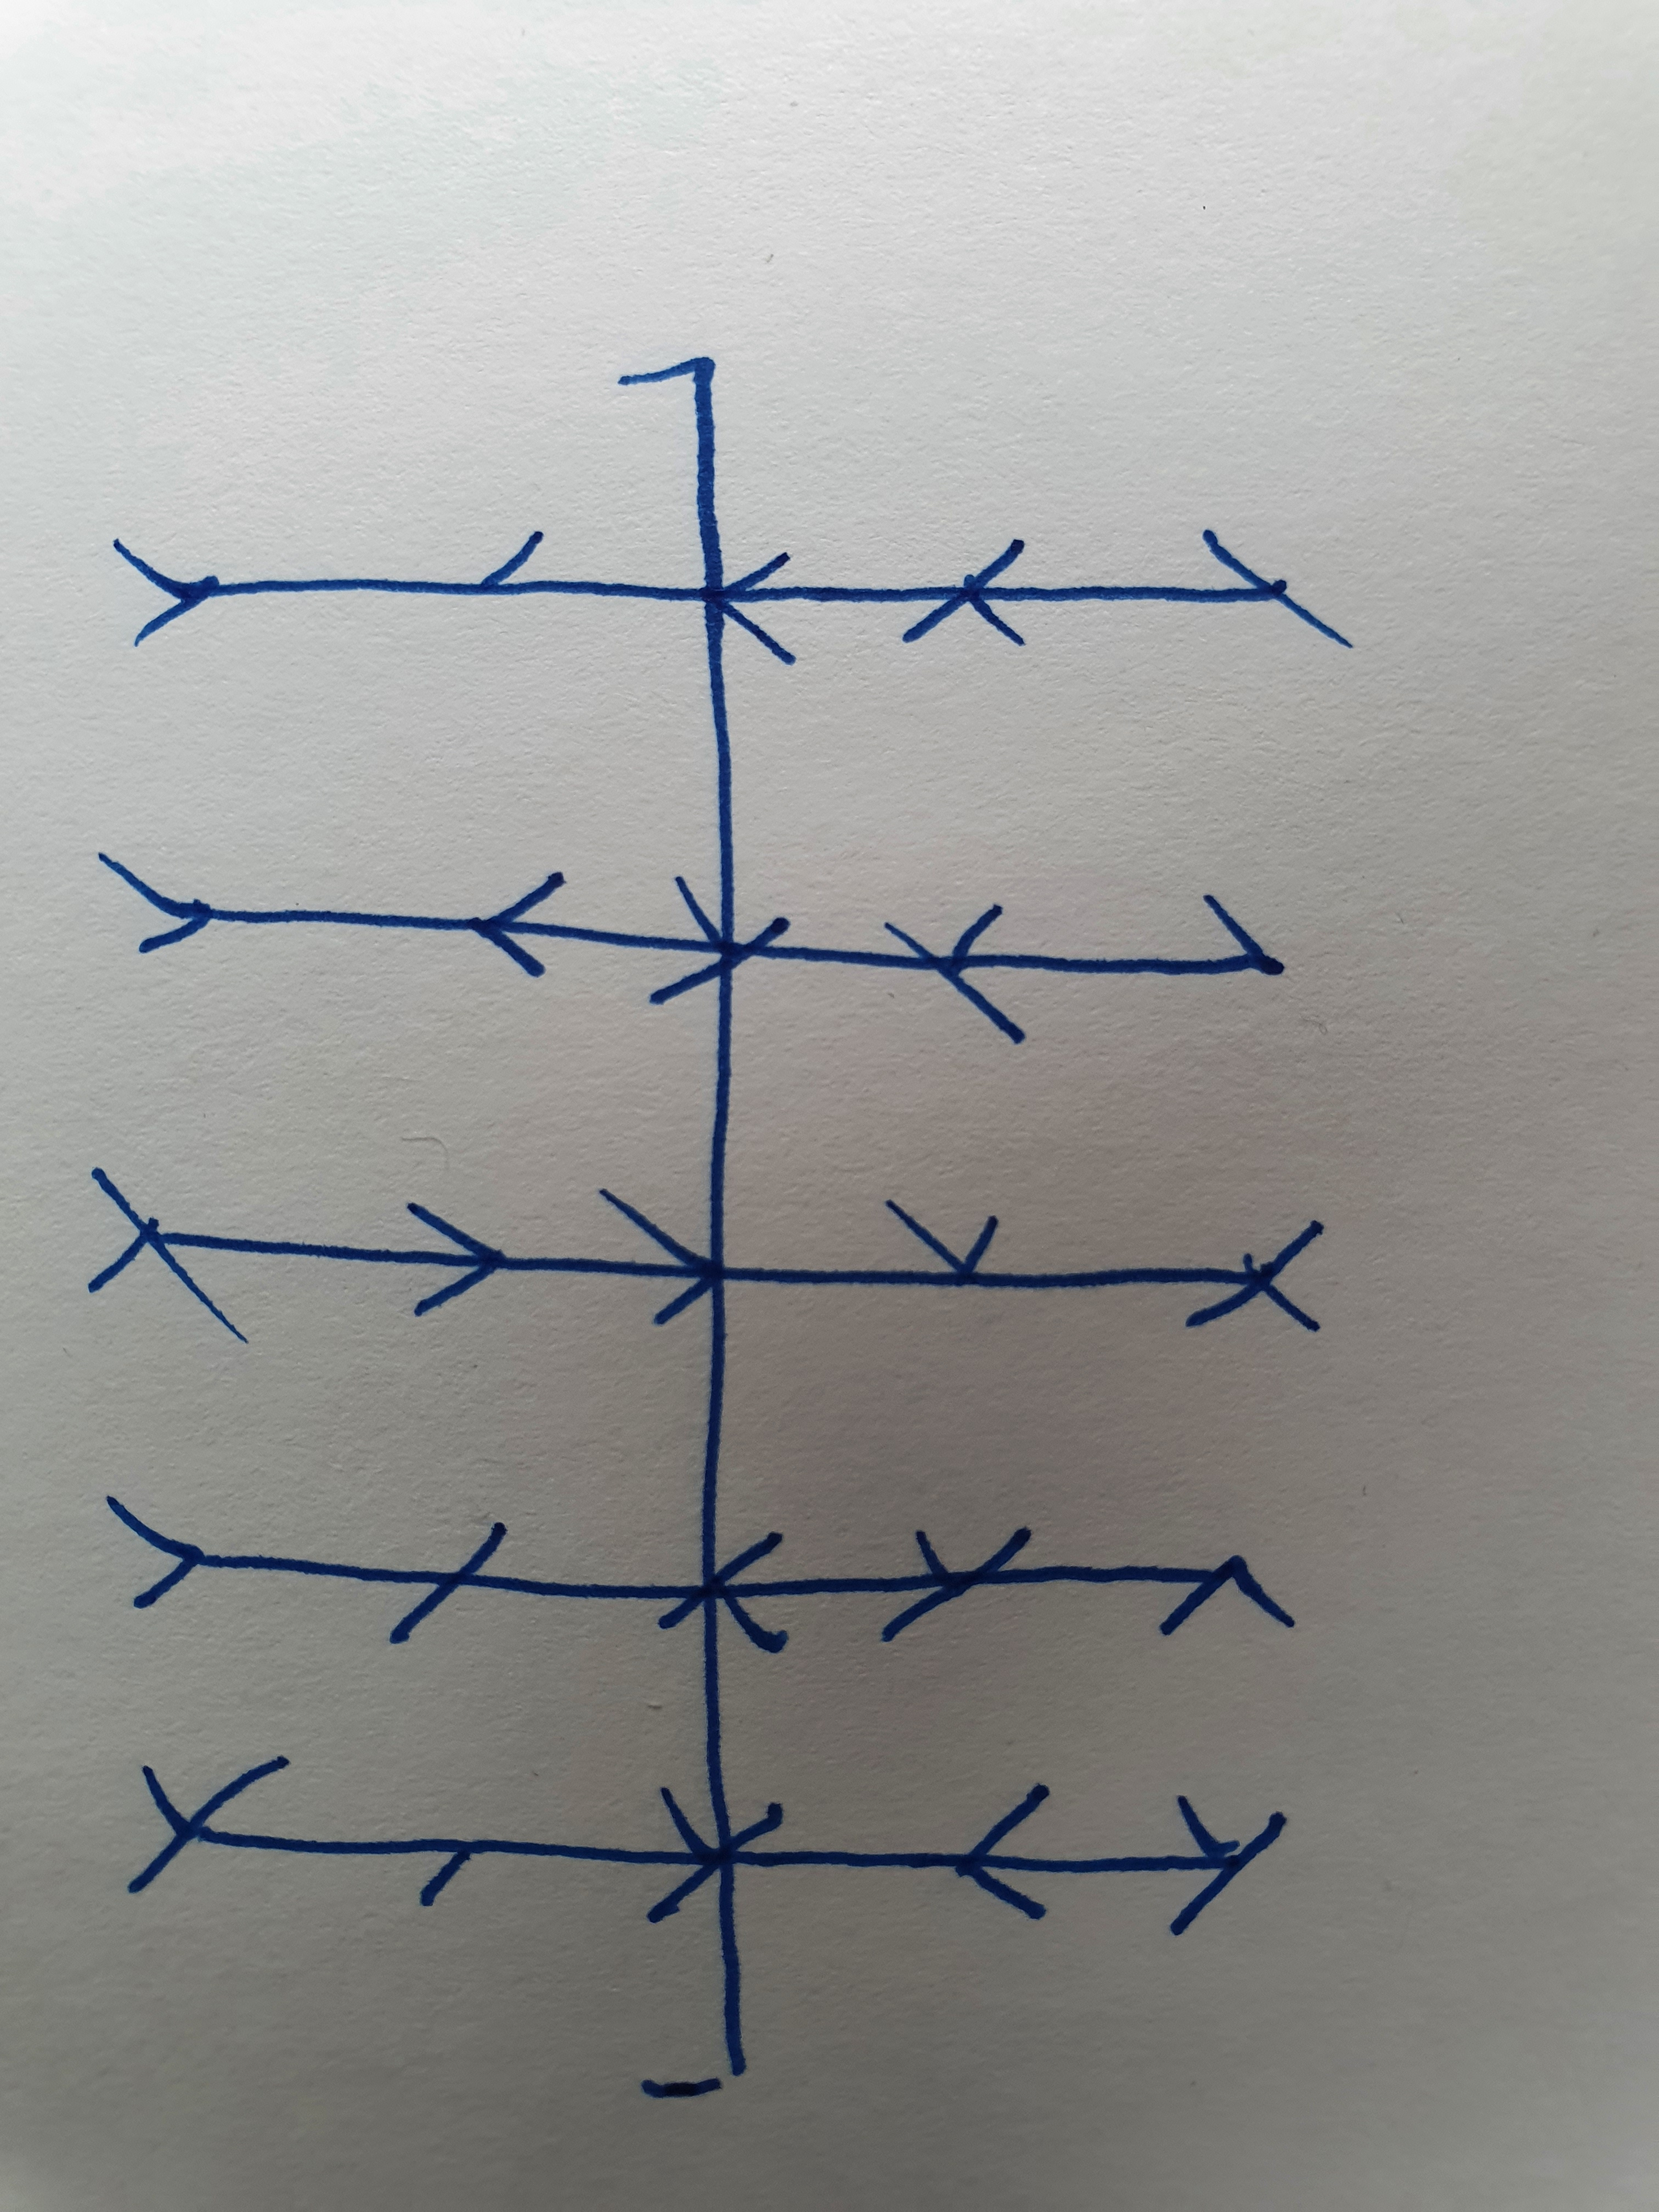Bar: (94, 848, 1288, 1049), (84, 1165, 1328, 1345), (124, 1749, 1293, 1935), (99, 1493, 1304, 1662), (108, 528, 1358, 664)
Barcode: (87, 352, 1358, 2095)
End: (613, 350, 725, 583)
Start: (638, 1925, 748, 2097)
